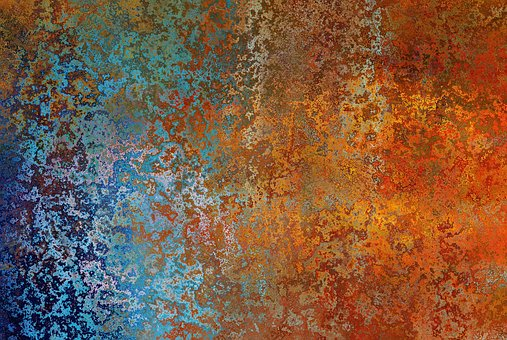rust: (163, 8, 505, 340), (2, 3, 110, 112), (5, 144, 99, 265)
